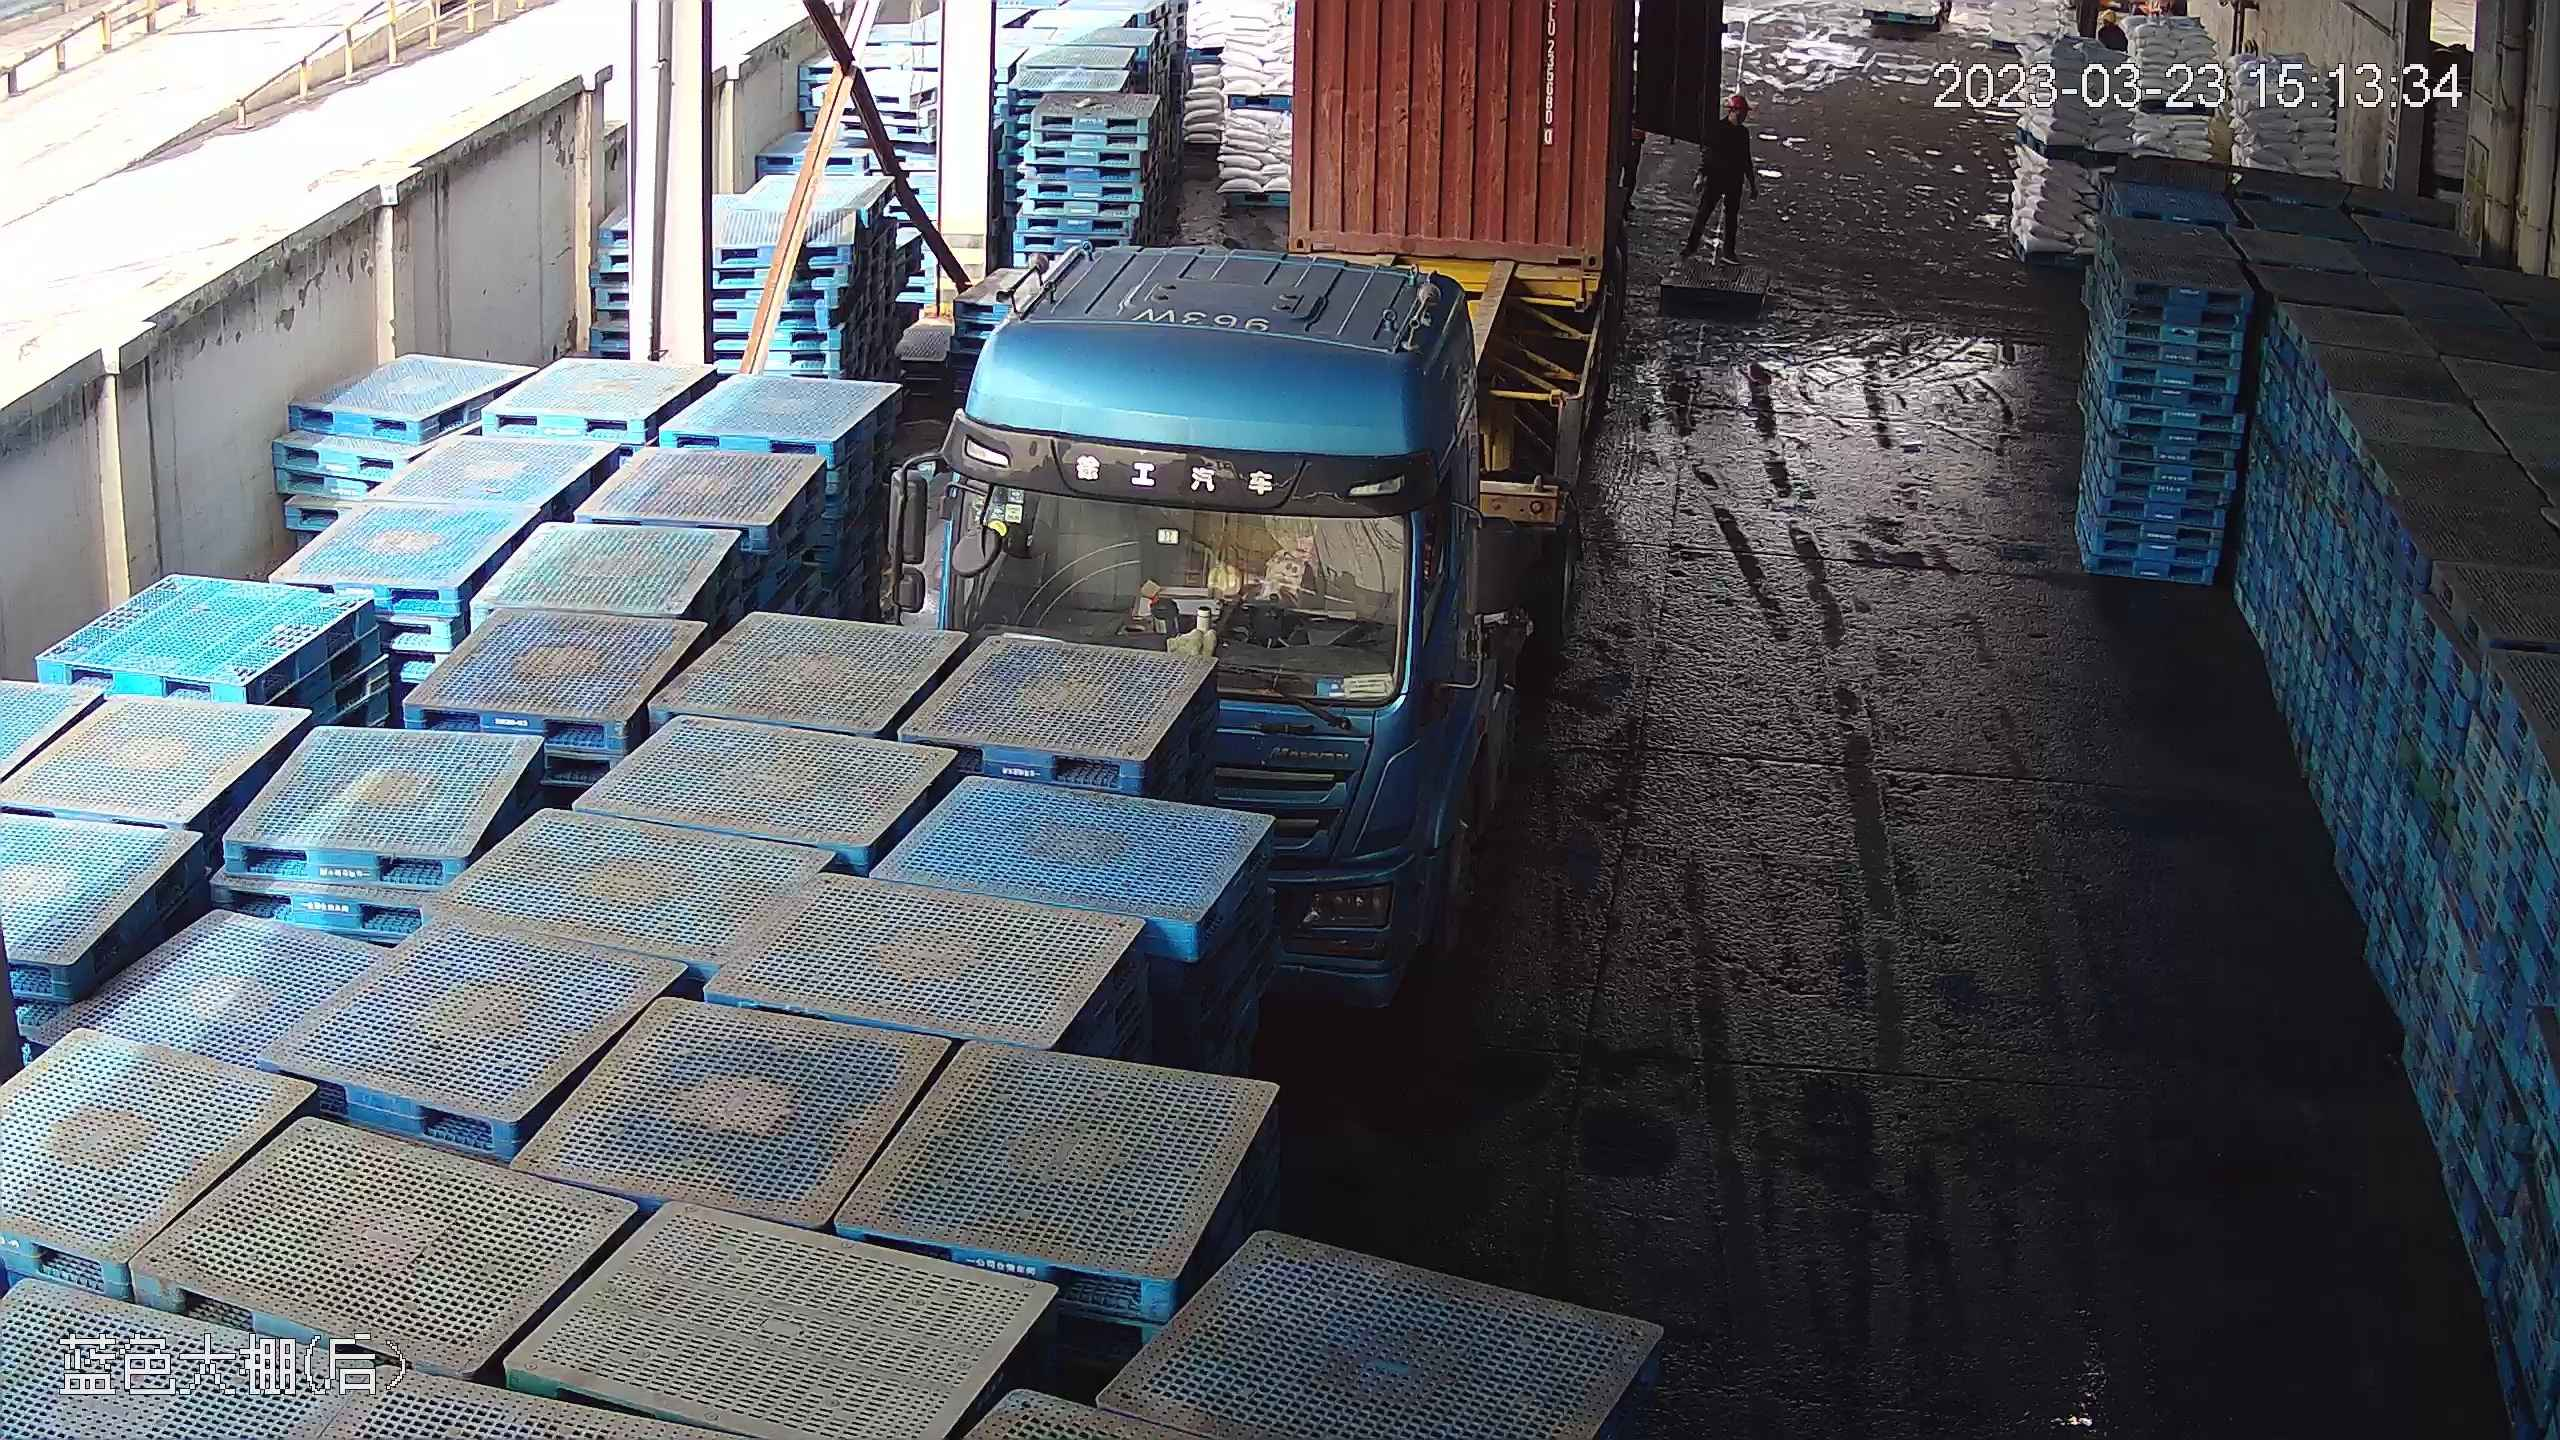head: (1707, 89, 1752, 141)
helmet: (1716, 90, 1746, 120)
people: (1686, 84, 1757, 264)
truck: (890, 0, 1628, 873)
